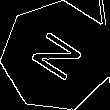N_SE: (24, 26, 89, 87)
